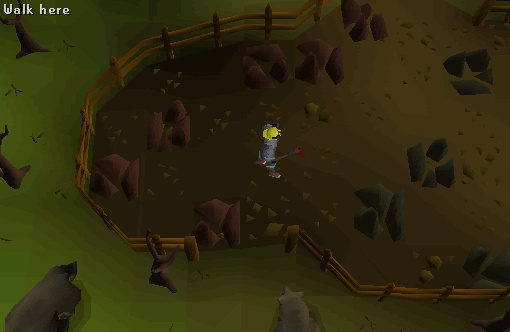coal: (345, 173, 416, 254), (396, 120, 467, 201), (430, 28, 501, 109)
iron: (291, 34, 354, 93), (230, 34, 293, 93), (137, 95, 200, 154), (82, 146, 145, 205), (184, 192, 247, 251)
